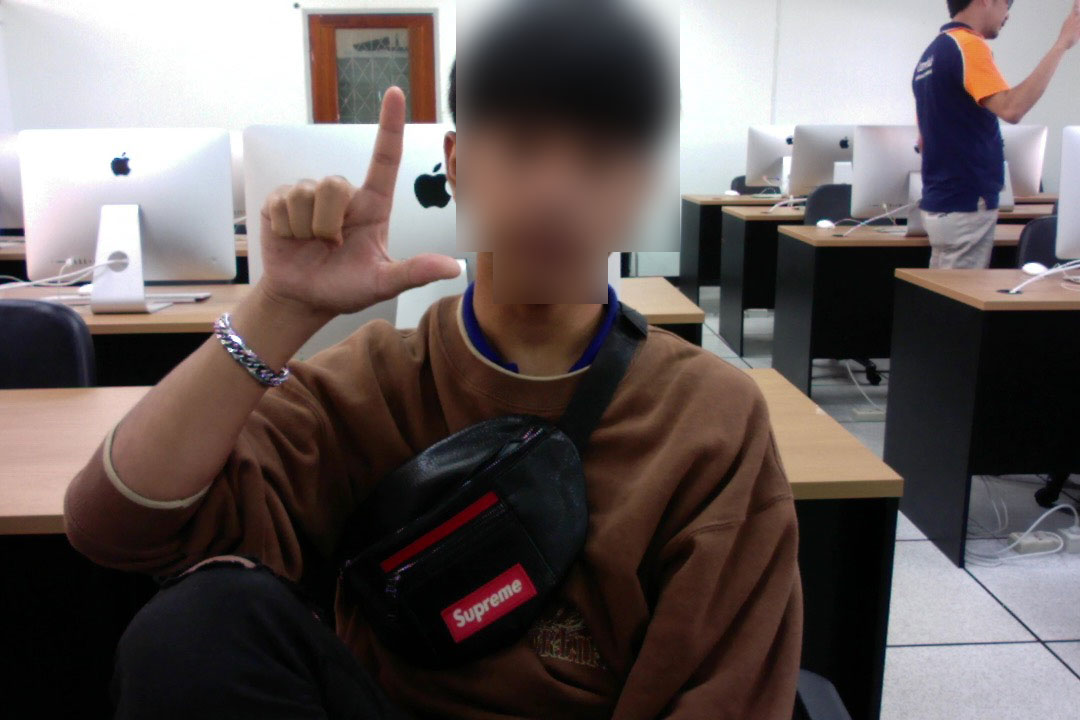lor: (216, 76, 471, 307)
